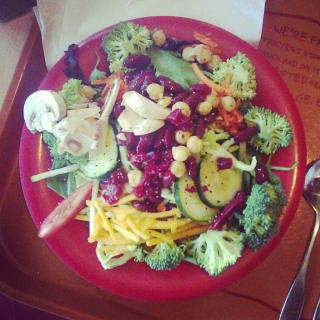Broccoli: (182, 227, 246, 278), (240, 182, 283, 250), (101, 21, 152, 74), (243, 106, 293, 154), (212, 52, 258, 101), (42, 130, 88, 165), (146, 241, 182, 270), (57, 78, 88, 105)
Salad: (23, 20, 300, 276)
